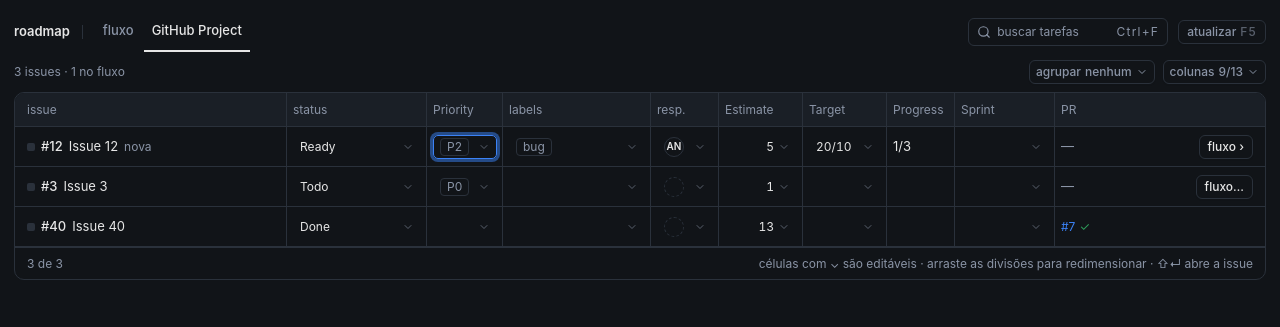
Test case: a field cell writes through its editor and the answer's row replaces its row, with no reload of the view (#686)
The image size is (1280, 327).
Expected: the text "3 de 3" is shown, left=27, top=256, right=63, bottom=272
Press Enter
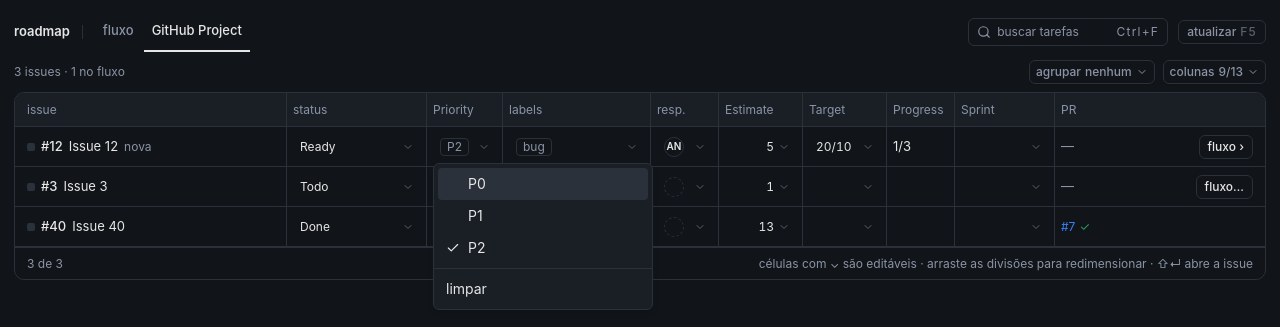
Click the menu item "P0" at (543, 184), box left=438, top=168, right=648, bottom=200
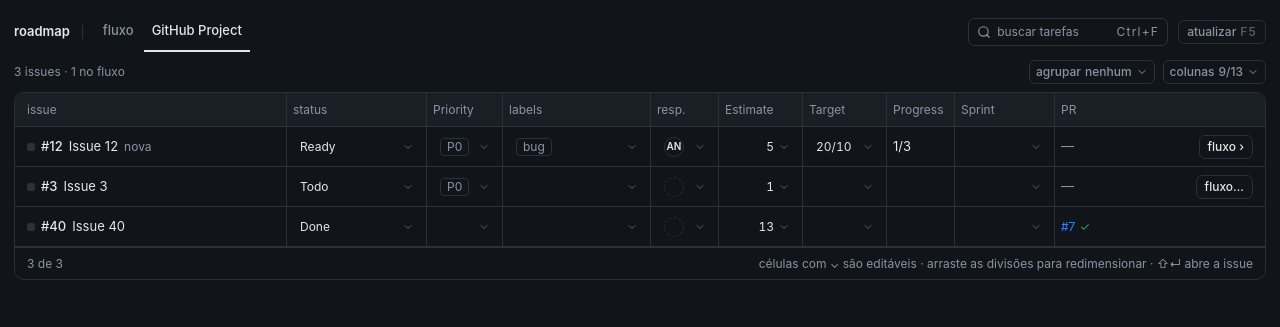
Now the text "P0" in the row of "Issue 12" is shown, box left=447, top=138, right=462, bottom=154
